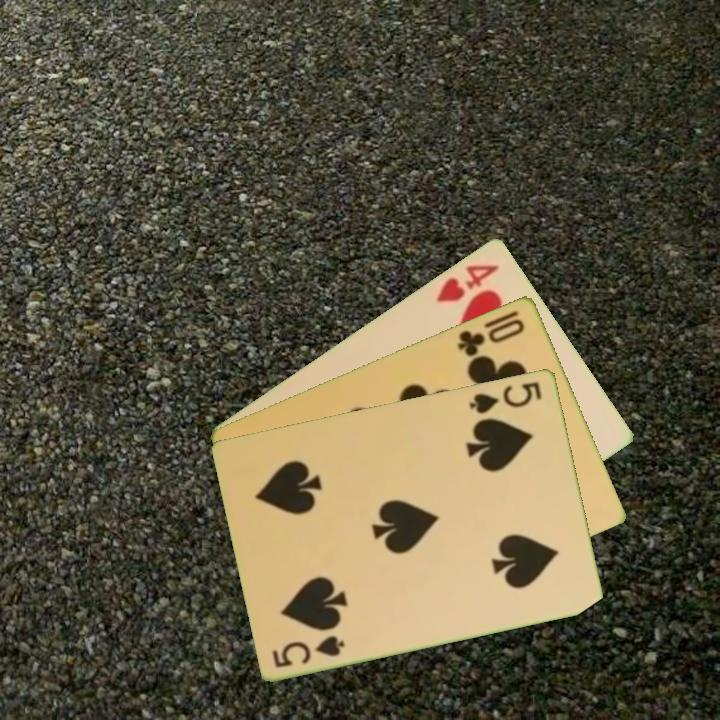10c: (454, 314, 528, 359)
4h: (432, 260, 502, 305)
5s: (466, 377, 545, 416), (269, 631, 348, 670)
